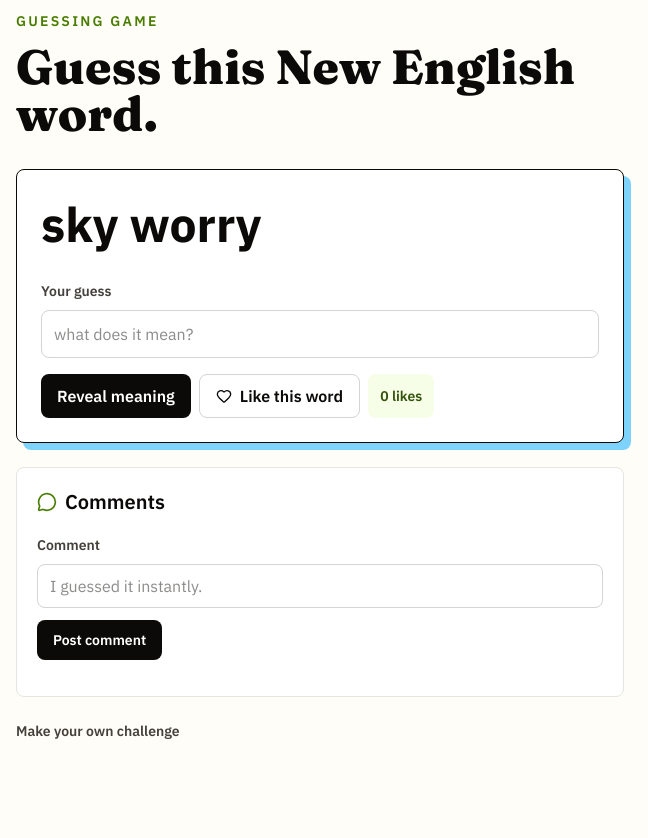
ChallengeGuess › lets a friend guess one shared New English word
Expected: the text "sky worry" is shown, [41,193,261,255]
Expected: the heading "Guess this New English word." is shown, [16,43,624,137]
In the field labelled "Your guess": (320, 334) [41,310,599,358], type "fear of flying"
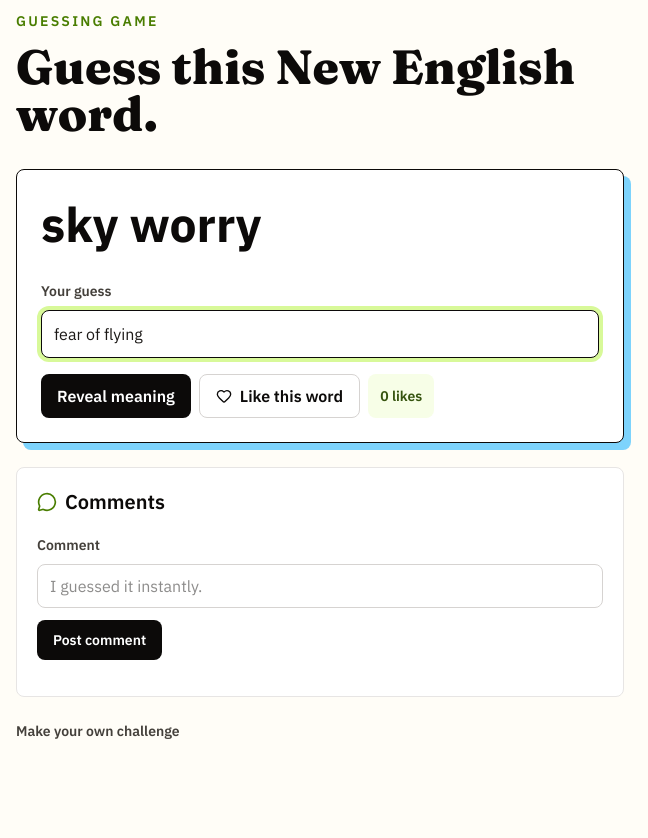
Click the button "Reveal meaning": (116, 396) [41,374,191,418]
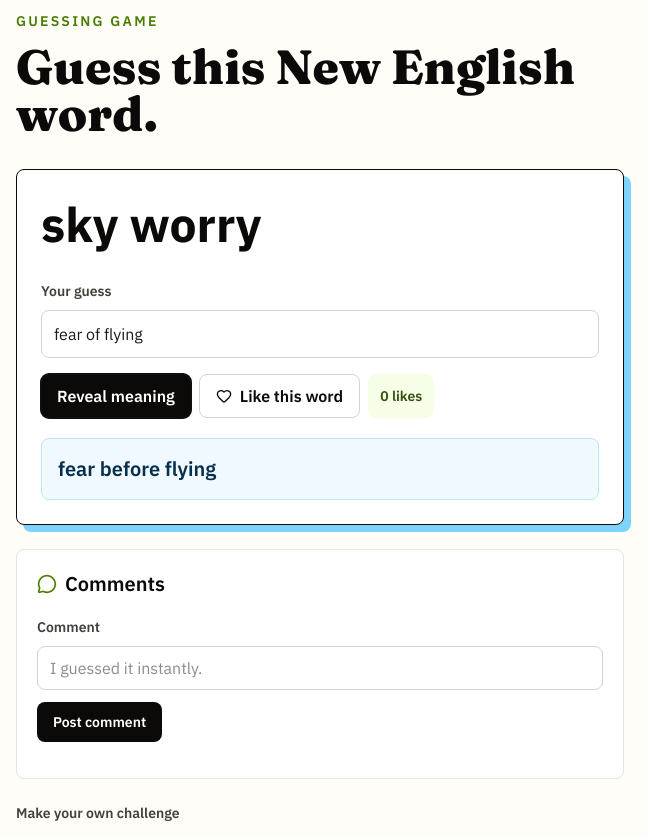
Now the text "fear before flying" is shown, box [41,438,599,500]
Click the button "Like this word": (280, 396) [199,374,360,418]
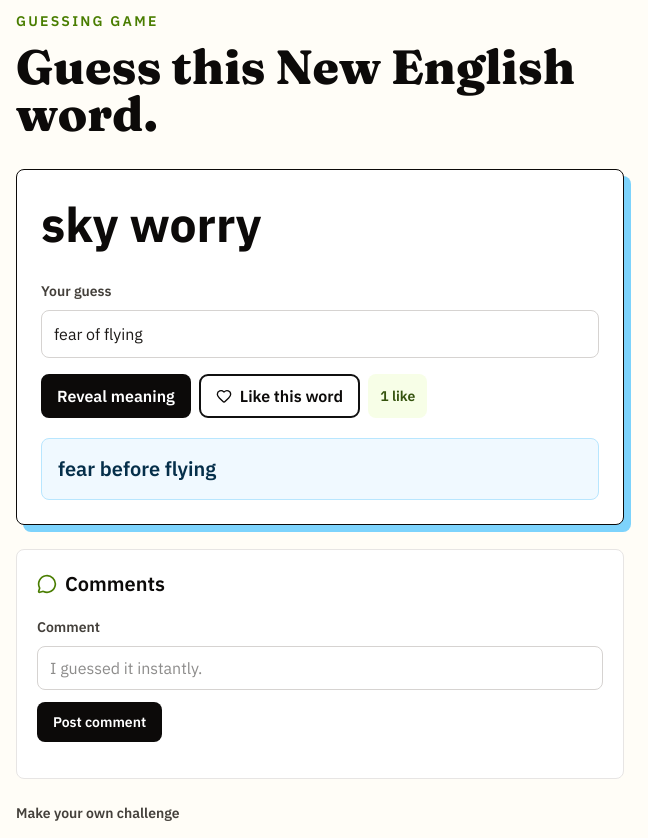
Now the text "1 like" is shown, box [368,374,427,418]
